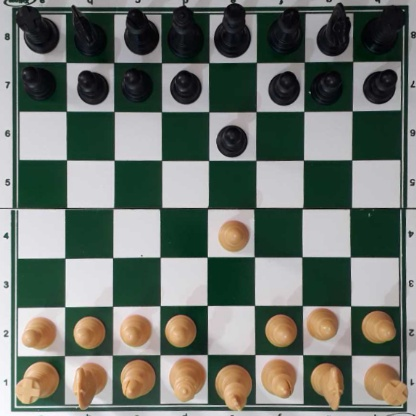black-bishop: (266, 5, 303, 53), (123, 7, 159, 54)
black-king: (213, 2, 251, 57)
black-knight: (71, 3, 106, 56), (317, 1, 350, 57)
black-pawn: (362, 67, 397, 104), (20, 65, 55, 99), (215, 121, 249, 156), (267, 70, 300, 105), (311, 67, 343, 103), (76, 67, 107, 104), (170, 67, 201, 103), (121, 67, 152, 102)
black-queen: (167, 5, 205, 56)
black-rook: (14, 4, 59, 51), (361, 5, 404, 53)
white-bishop: (119, 358, 154, 400), (261, 358, 296, 400)
white-king: (217, 361, 249, 411)
white-knight: (311, 361, 345, 411), (74, 361, 106, 410)
white-pawn: (19, 316, 58, 350), (360, 310, 396, 343), (118, 312, 151, 347), (216, 218, 250, 251), (263, 313, 296, 346), (307, 307, 339, 341), (165, 313, 197, 346), (73, 314, 105, 347)
white-queen: (169, 354, 204, 404)
white-rook: (14, 360, 59, 403), (363, 362, 408, 405)
